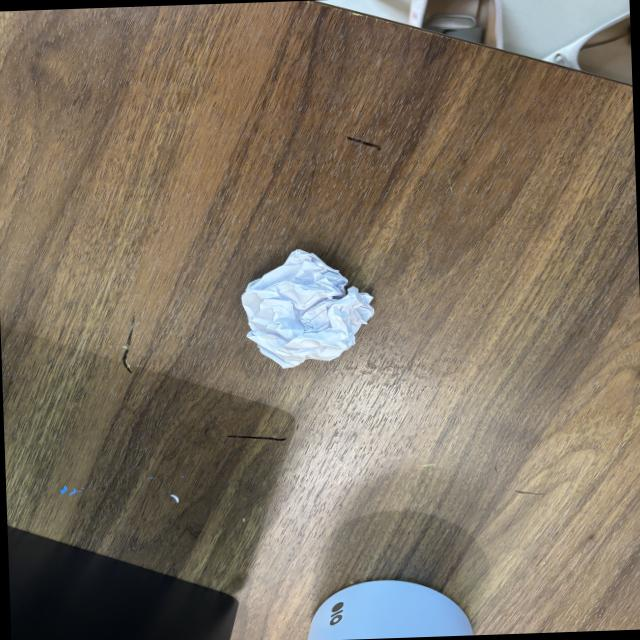crumpled_paper: (232, 236, 384, 373)
